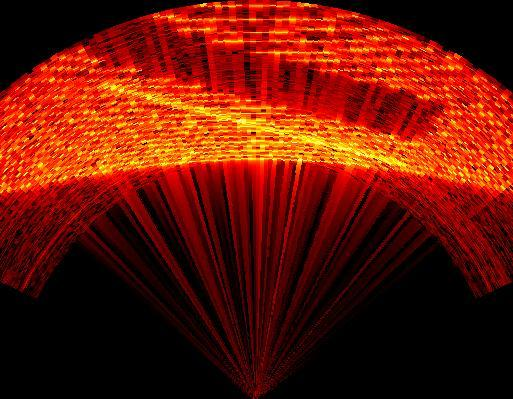pipe: (61, 21, 448, 167)
